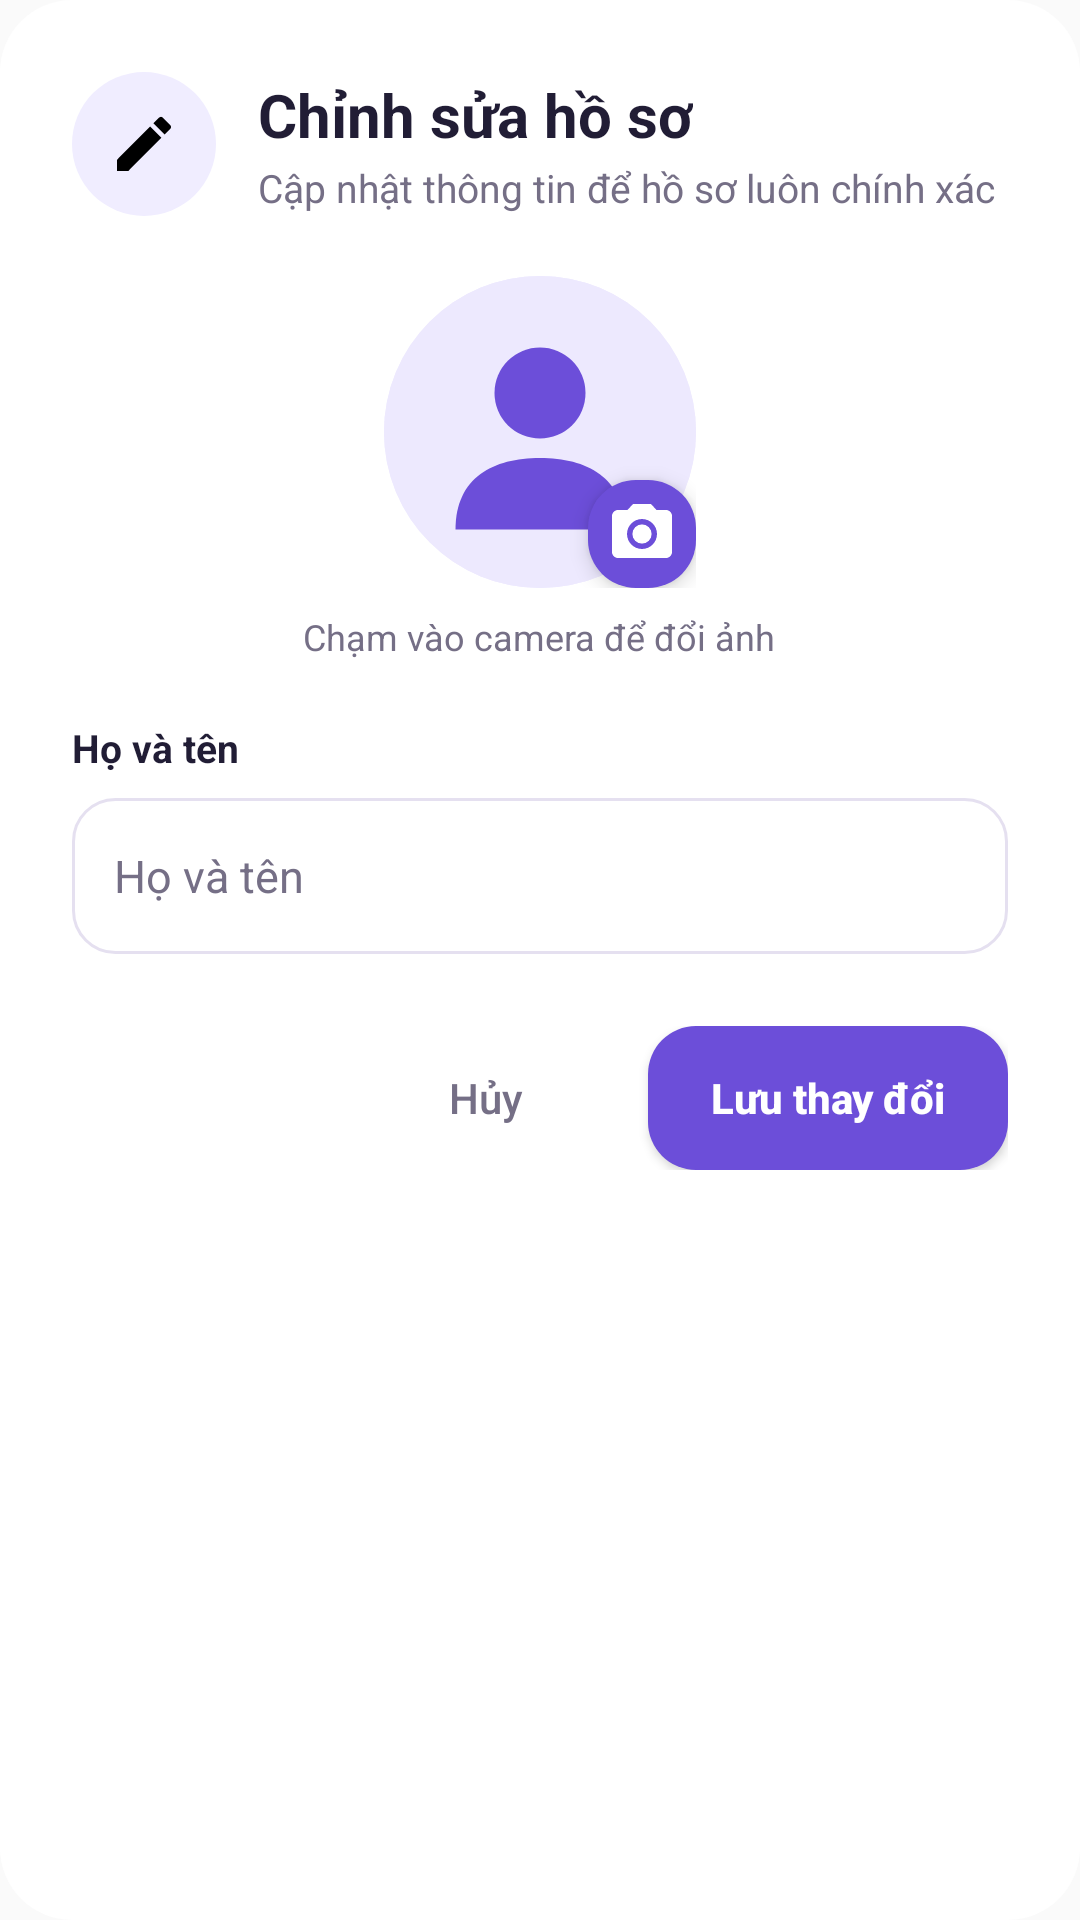

Screen size 1080w x 1920h. Icon name, then its center in pixels as [x,y]:
edit: [144,144]
Thay ảnh đại diện: [642,534]
